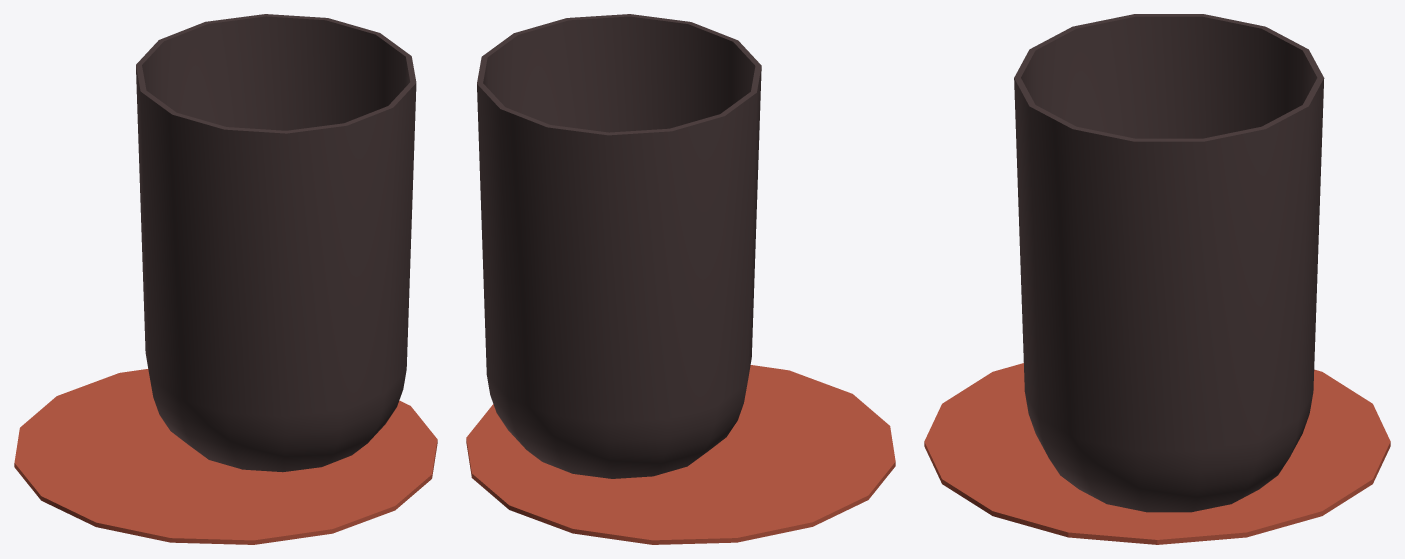
File: FI_051_empty_mug.glb
The picture shows the model from 3 angles, left to right: view 1: azimuth 30°, elevation 25°; view 2: azimuth 150°, elevation 25°; view 3: azimuth 270°, elevation 25°; orthographic projection. The views are drawn at different scales.
Parts seen in each view (by area): view 1: empty_mug; view 2: empty_mug; view 3: empty_mug.
Boxes of the visible parts, <box> form: empty_mug: <box>14,14,437,544</box>; empty_mug: <box>466,14,895,544</box>; empty_mug: <box>924,14,1390,544</box>.
Bounding box in the file's own units: 0.275 × 0.2592 × 0.275.
